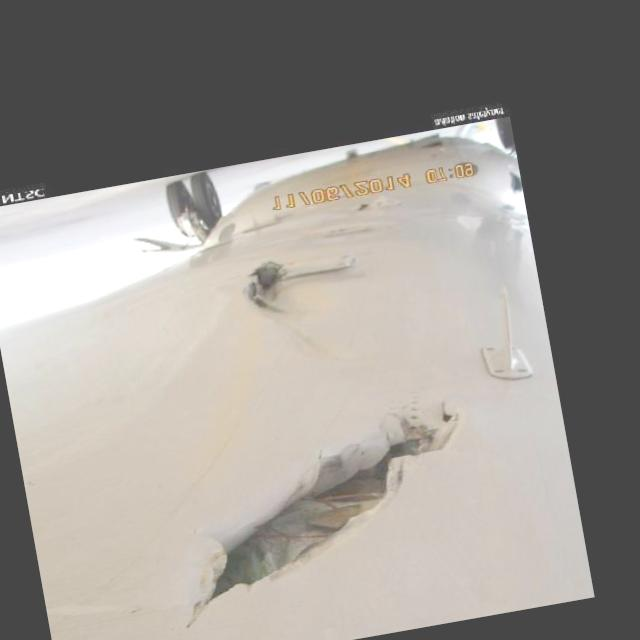crack: (152, 390, 492, 628)
